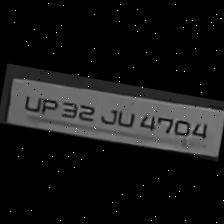0: (168, 115, 190, 139)
2: (74, 98, 97, 124)
3: (58, 96, 80, 120)
4: (188, 117, 212, 142), (136, 108, 159, 130)
7: (152, 111, 176, 133)
J: (98, 102, 120, 126)
P: (32, 94, 60, 116)
U: (110, 104, 138, 128), (18, 91, 46, 113)
